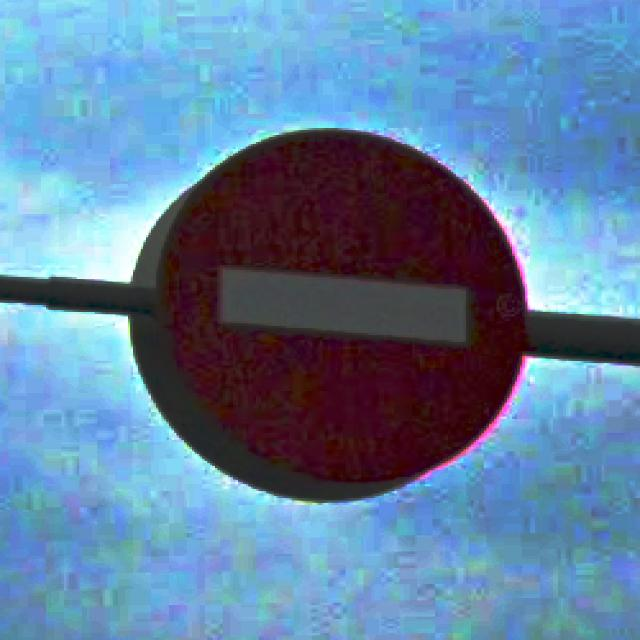noentry: (128, 123, 530, 500)
